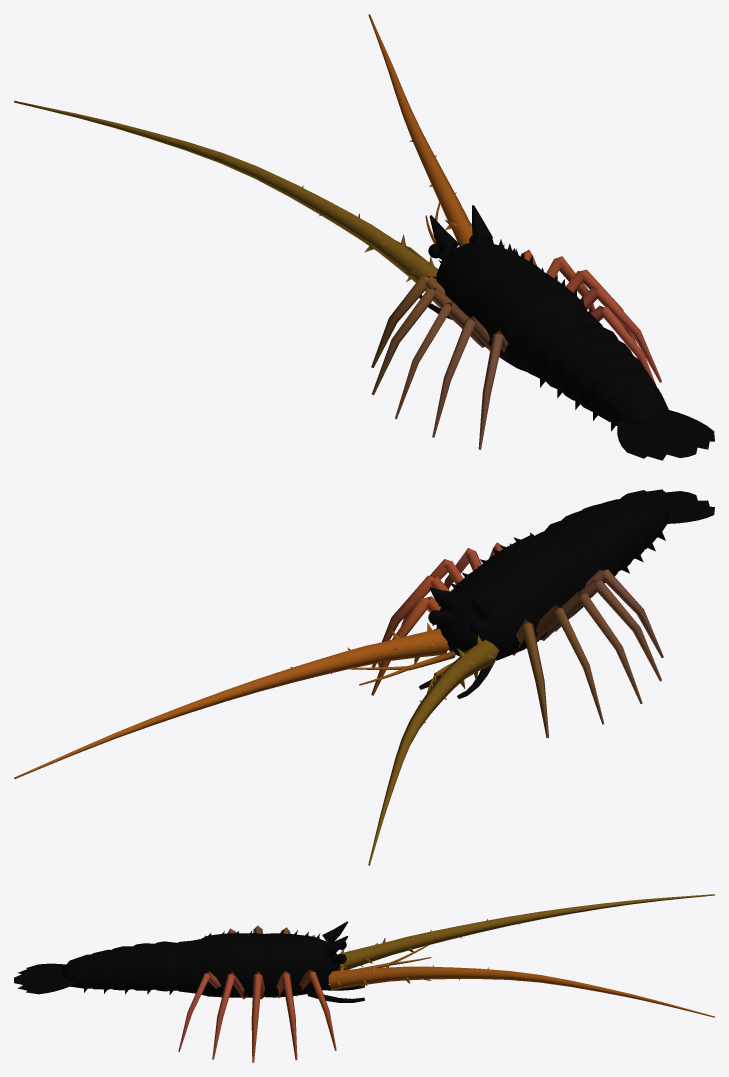
The model's file is spiny_lobster_game.glb.
The picture shows the model from 3 angles, top to bottom: view 1: azimuth 30°, elevation 25°; view 2: azimuth 150°, elevation 25°; view 3: azimuth 270°, elevation 25°; orthographic projection. The views are drawn at different scales.
Visible parts, largest first — view 1: spiny_lobster_game; view 2: spiny_lobster_game; view 3: spiny_lobster_game.
Boxes of the visible parts, x1,y1,x2,y2 form: spiny_lobster_game: [14, 14, 714, 460]; spiny_lobster_game: [14, 489, 714, 865]; spiny_lobster_game: [14, 894, 714, 1062].
Size of the model in its own units: 0.5223 by 0.1828 by 1.26.
